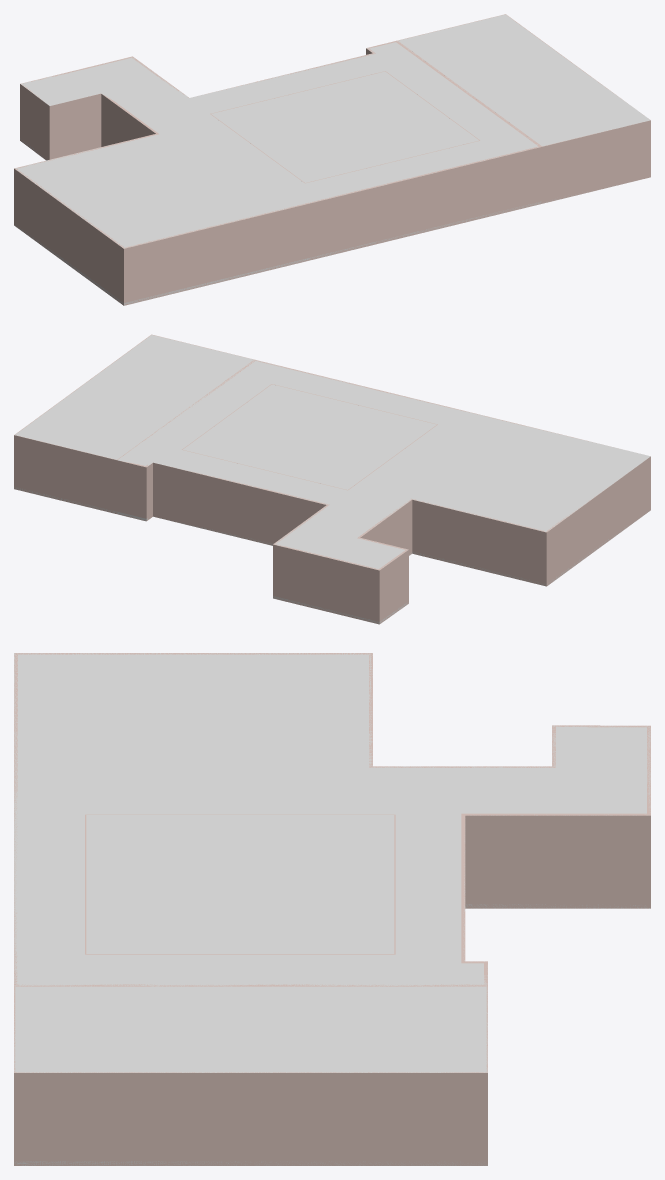
The model's file is YoobeeL1.fbx.
The picture shows the model from 3 angles, top to bottom: view 1: azimuth 30°, elevation 25°; view 2: azimuth 150°, elevation 25°; view 3: azimuth 270°, elevation 25°; orthographic projection. The views are drawn at different scales.
Visible parts, largest first — view 1: Ceiling, Room, Ceiling.001, Room.001, Baseboard, CenterWalls; view 2: Ceiling, Room, Ceiling.001, Room.001, Baseboard, CenterWalls; view 3: Ceiling, Room.001, Ceiling.001, Room, CenterWalls, Baseboard.001.
Part boxes in pixels (<box>): Ceiling: <box>15,41,538,248</box>; Room: <box>14,40,541,305</box>; Ceiling.001: <box>398,14,650,146</box>; Room.001: <box>397,14,650,203</box>; Baseboard: <box>15,138,541,305</box>; CenterWalls: <box>210,71,479,183</box>; Ceiling: <box>118,360,650,569</box>; Room: <box>117,359,650,624</box>; Ceiling.001: <box>15,335,253,459</box>; Room.001: <box>14,334,254,513</box>; Baseboard: <box>117,511,648,624</box>; CenterWalls: <box>182,384,437,490</box>; Ceiling: <box>14,653,650,985</box>; Room.001: <box>14,986,487,1165</box>; Ceiling.001: <box>14,986,487,1072</box>; Room: <box>14,653,650,985</box>; CenterWalls: <box>85,814,395,954</box>; Baseboard.001: <box>14,1161,487,1165</box>.
Size of the model in its own units: 2419 by 260 by 1551.
